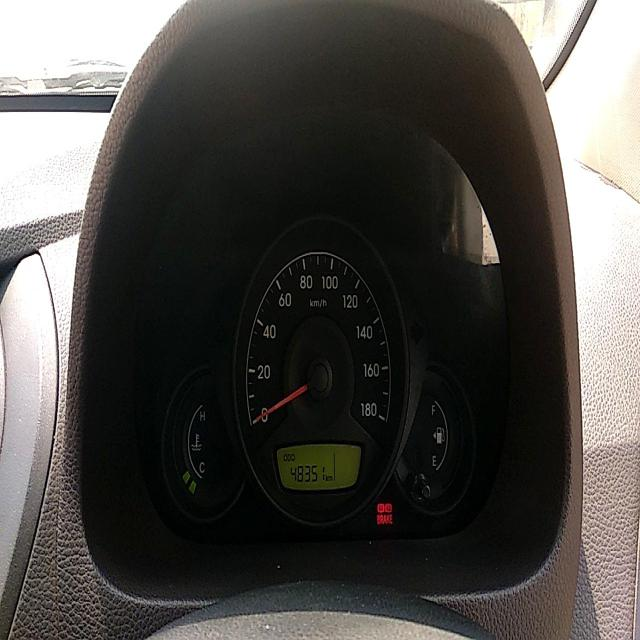odometer: (287, 462, 326, 484)
